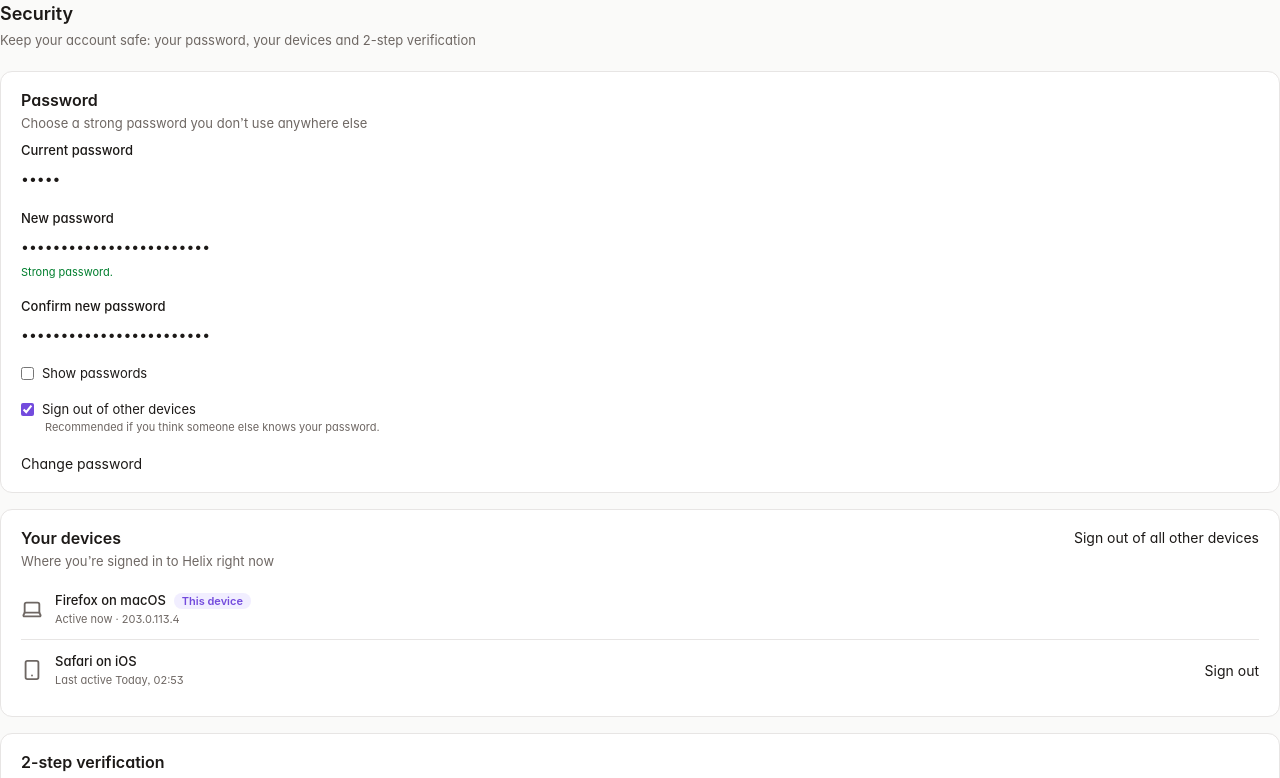
Test: change password › ties the server's error to the current password field
The image size is (1280, 778).
Step 1. Click the button "Change password" → (82, 464), box [21,452,142,476]
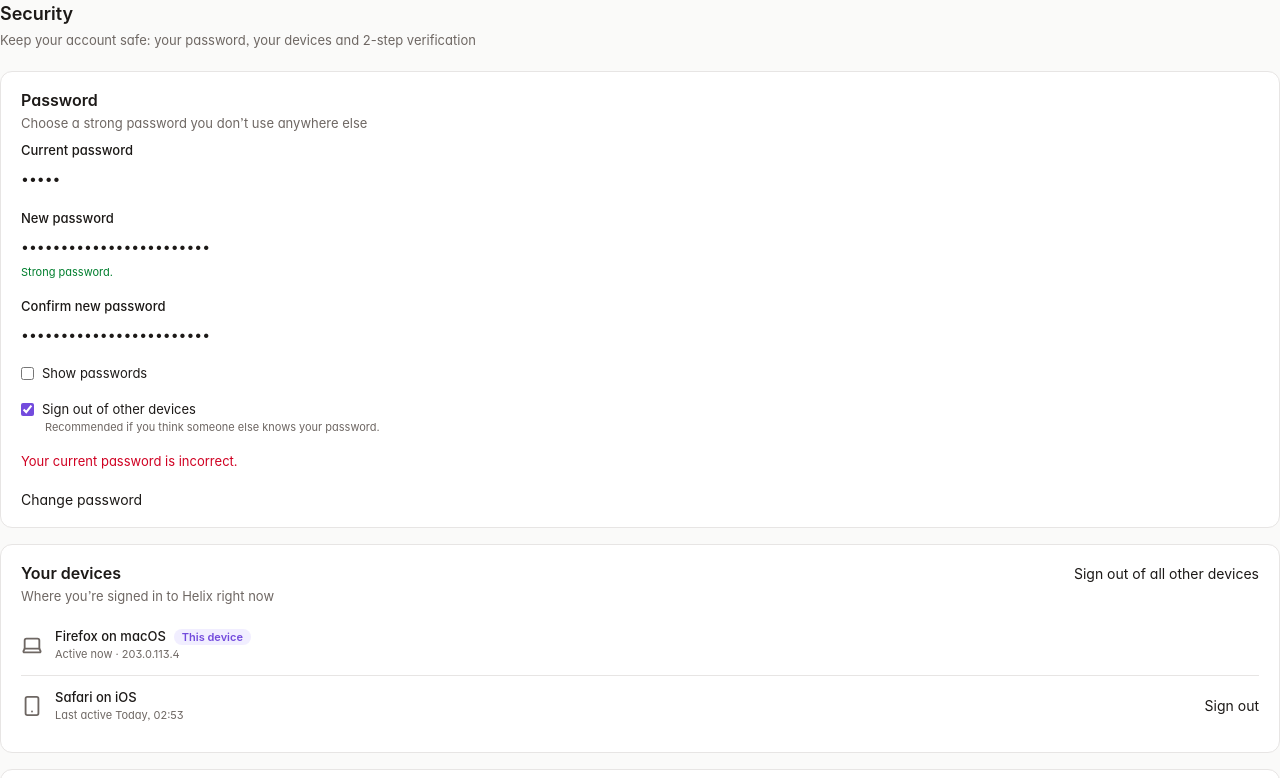
Now the message "Your current password is incorrect." is shown, box [21,452,238,468]
